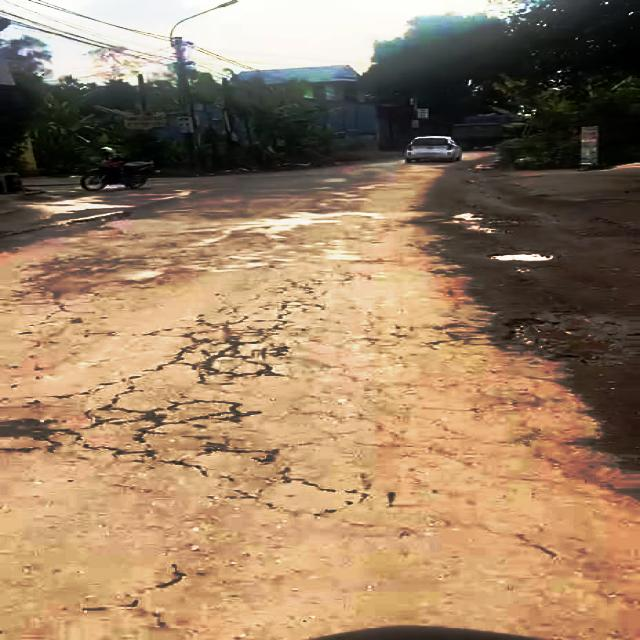pothole: (495, 316, 639, 368), (0, 415, 81, 451), (452, 211, 523, 234), (484, 249, 560, 263)
